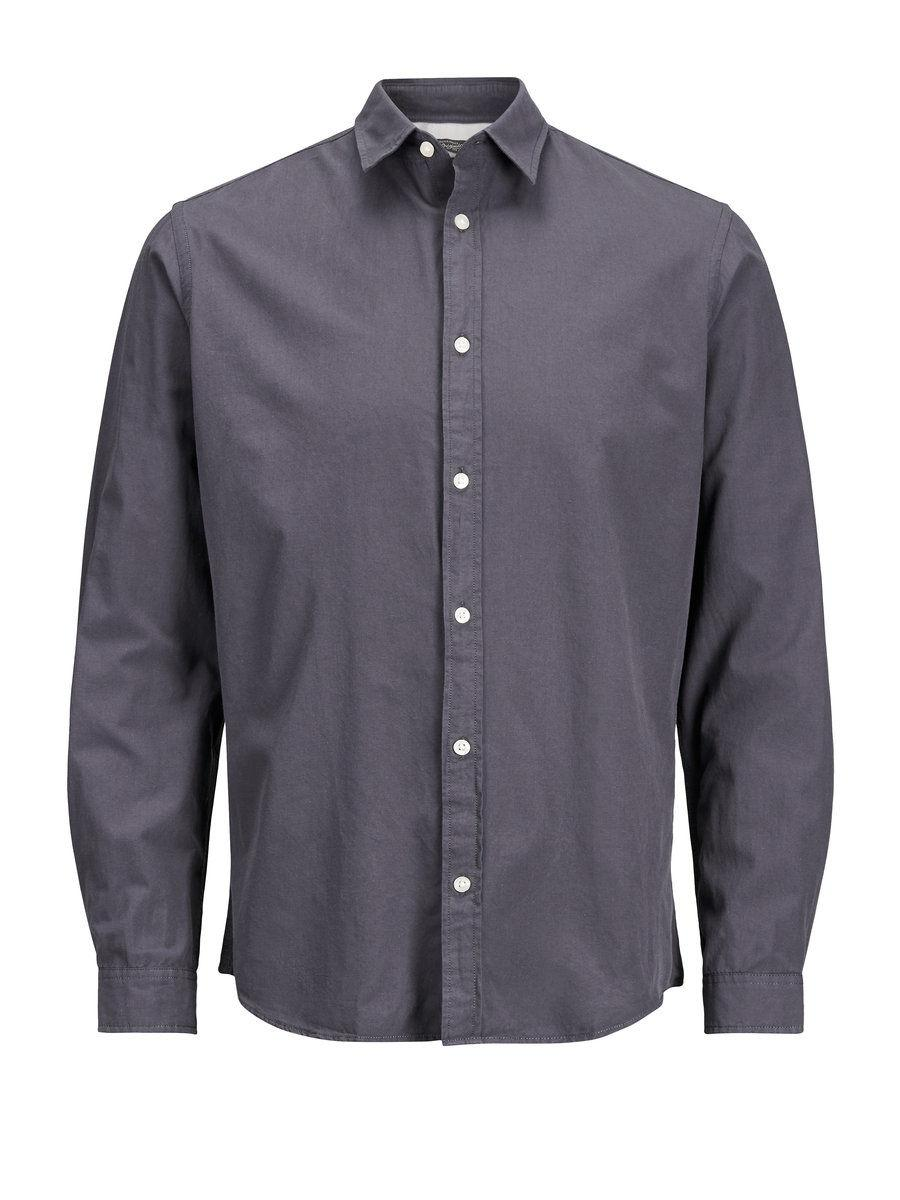teeshirt: (58, 65, 845, 1063)
